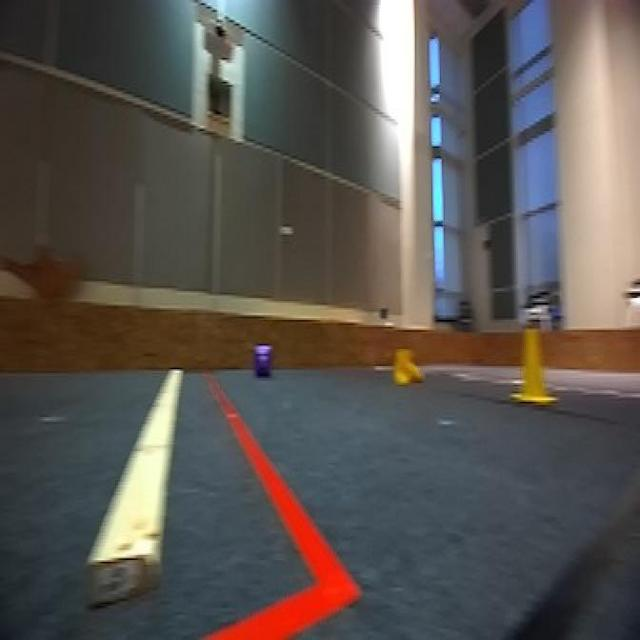frc_cone: (509, 322, 555, 407), (390, 344, 428, 386)
frc_cube: (252, 346, 272, 380)
